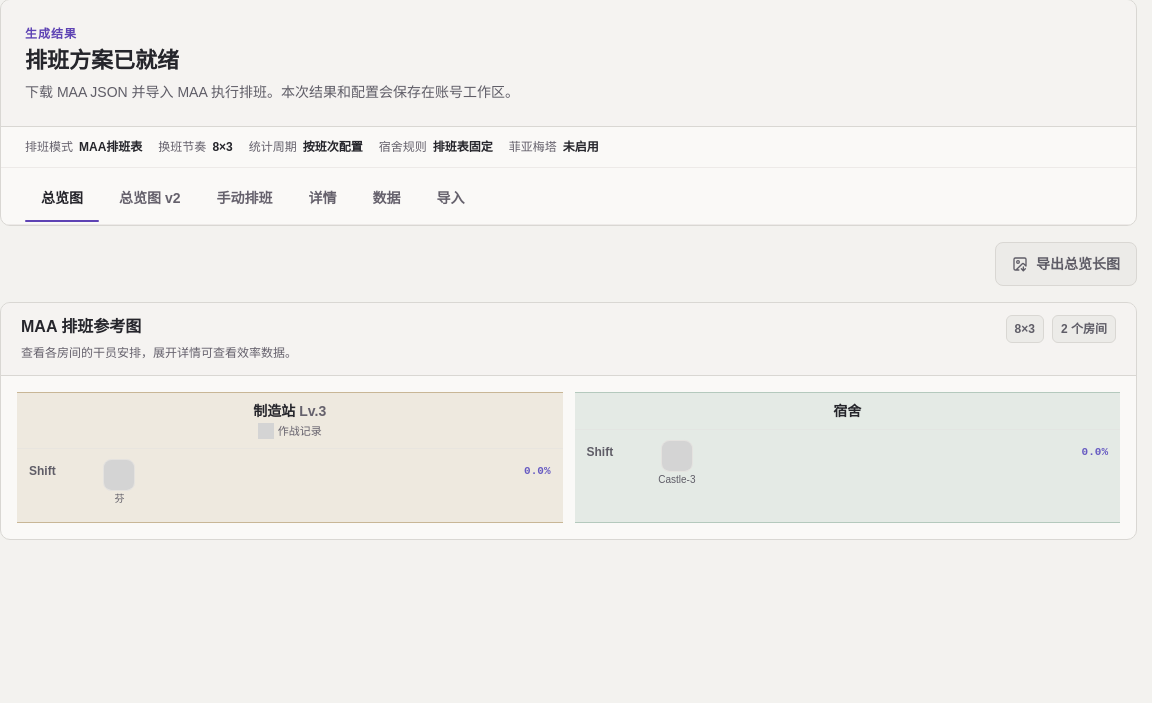
Test case: manual simulation lifecycle › names mood shortfalls and fills suggested beds before remeasuring
The image size is (1152, 703).
Click the tab "手动排班": (244, 202) x1=200 y1=180 x2=288 y2=224
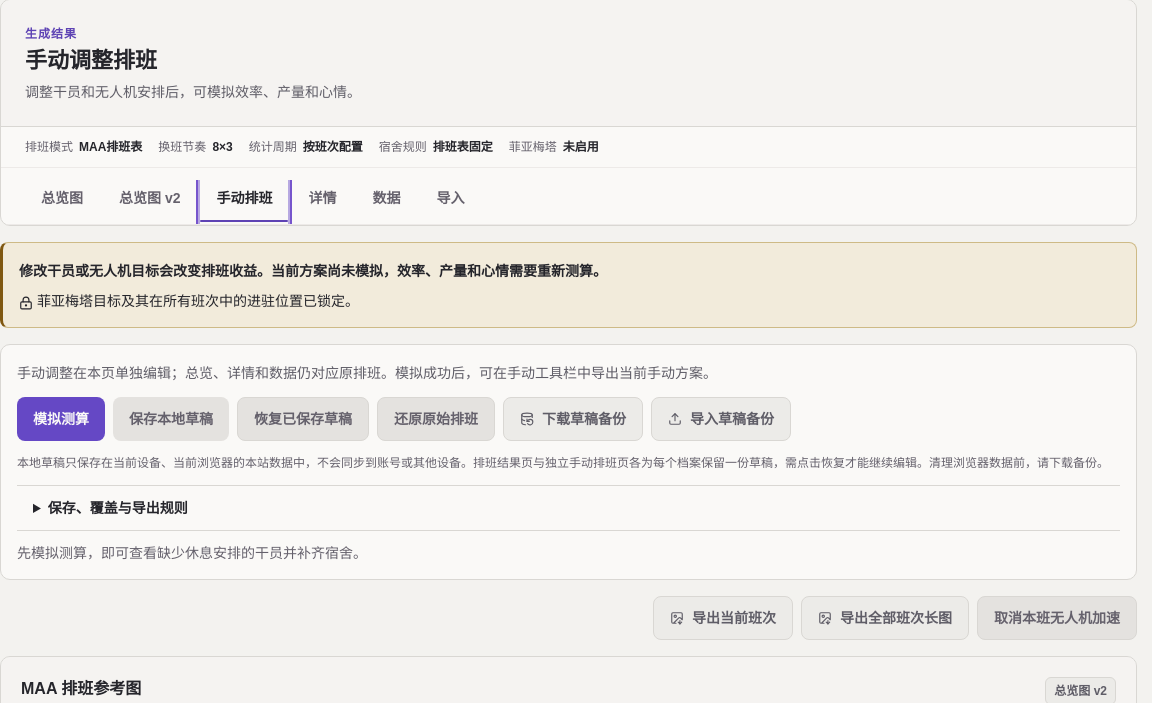
Click the button "模拟测算": (61, 419) x1=17 y1=397 x2=105 y2=441
(page scrolled)
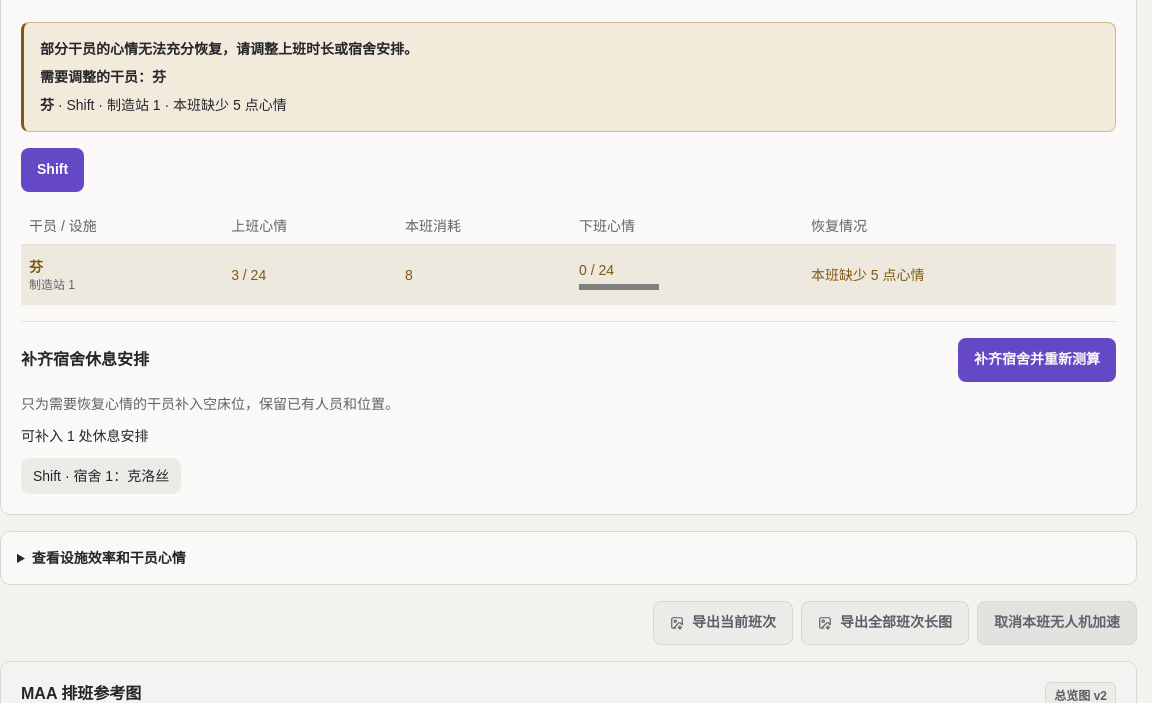
Check: the text "需要调整的干员：芬" is shown, box x1=40 y1=69 x2=166 y2=85
Check: the list item "芬 · Shift · 制造站 1 · 本班缺少 5 点心情" is shown, box x1=40 y1=97 x2=287 y2=113
Check: the table is shown, box x1=21 y1=208 x2=1116 y2=305
Click the button "补齐宿舍并重新测算": (1037, 360) x1=958 y1=338 x2=1116 y2=382
(page scrolled)
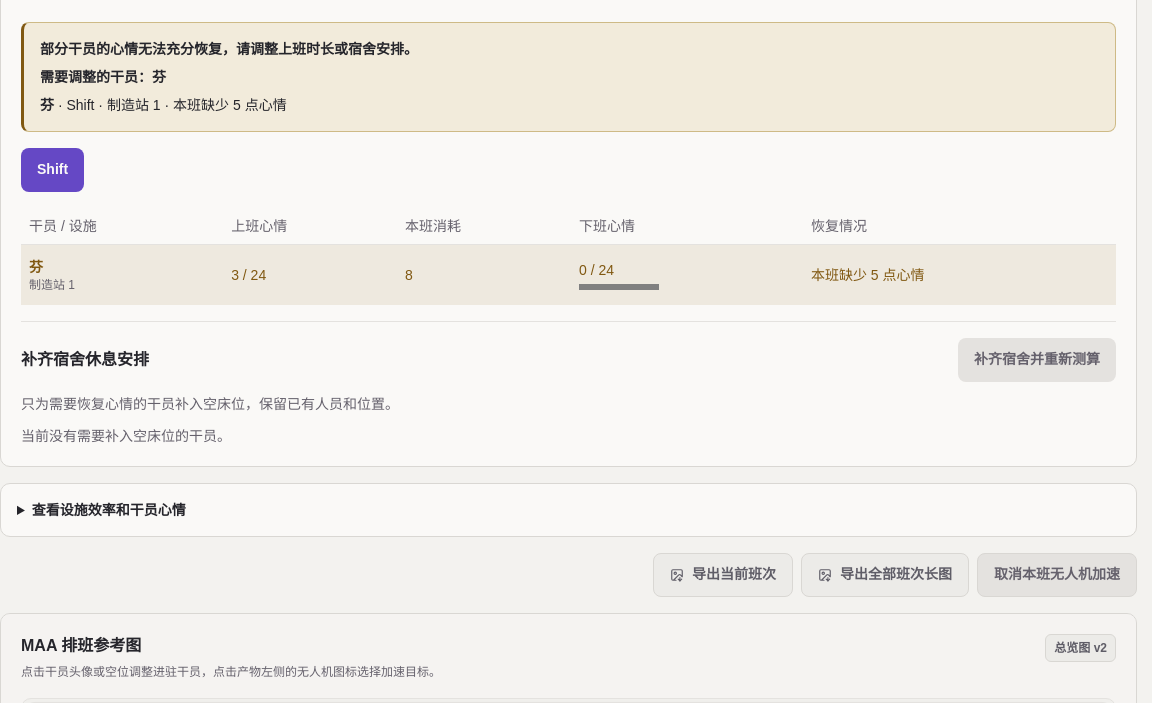
Check: the button "补齐宿舍并重新测算" is disabled, box x1=958 y1=338 x2=1116 y2=382
